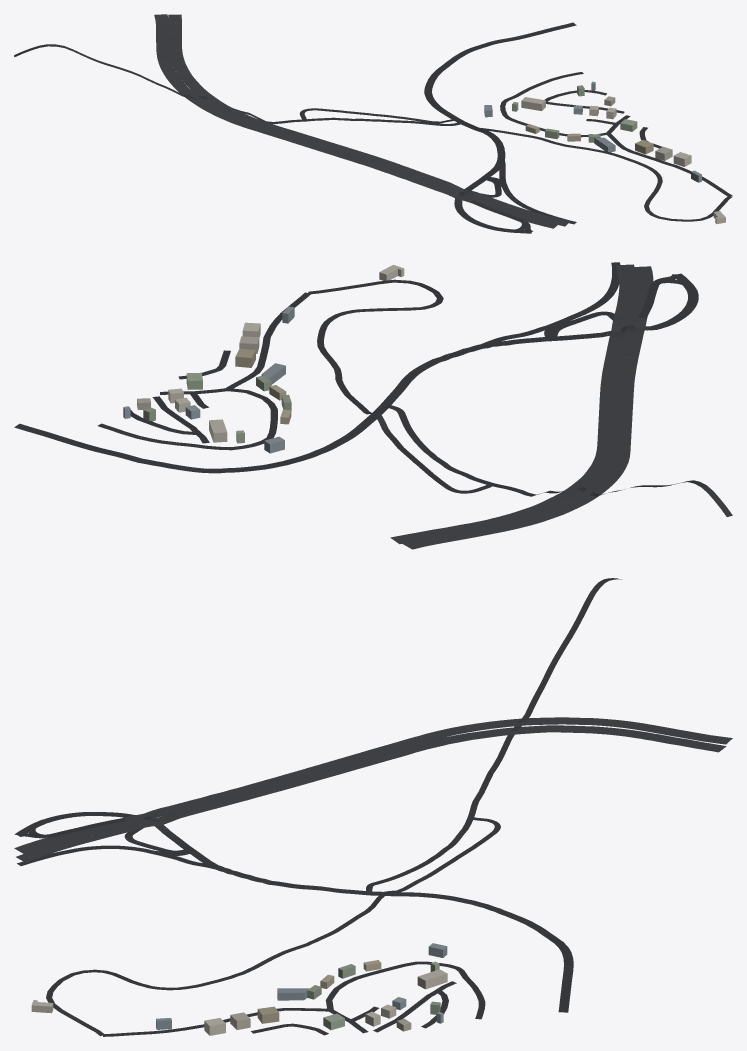
File: tile_4_4.glb
3 renders of one model, top to bottom at view 1: azimuth 30°, elevation 25°; view 2: azimuth 150°, elevation 25°; view 3: azimuth 270°, elevation 25°, orthographic. The views are drawn at different scales.
Parts seen in each view (by area): view 1: road_4_4, bld_4_4; view 2: road_4_4, bld_4_4; view 3: road_4_4, bld_4_4.
Part boxes in pixels (<box>): road_4_4: <box>14,14,732,233</box>; bld_4_4: <box>484,81,725,224</box>; road_4_4: <box>14,262,732,549</box>; bld_4_4: <box>123,265,404,453</box>; road_4_4: <box>14,578,732,1036</box>; bld_4_4: <box>31,943,447,1035</box>.
Bounding box in the file's own units: 886 × 195 × 814.
